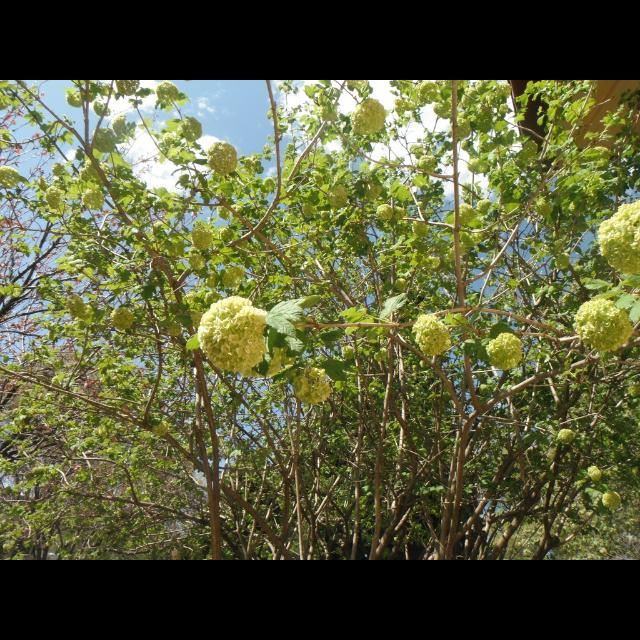Flower: (1, 80, 640, 560), (568, 277, 634, 363)
